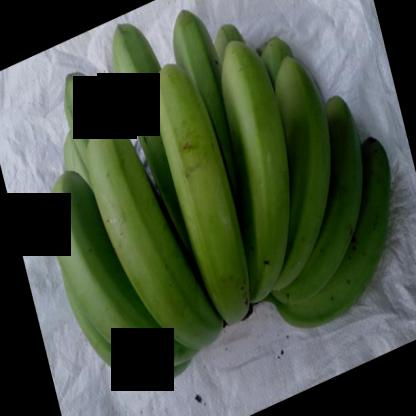freshunripe: (88, 125, 206, 352), (150, 61, 244, 322), (40, 179, 154, 389), (221, 36, 292, 292), (304, 128, 398, 318), (299, 88, 361, 345), (266, 44, 326, 277), (98, 29, 174, 123), (164, 3, 226, 113), (41, 60, 115, 146)
